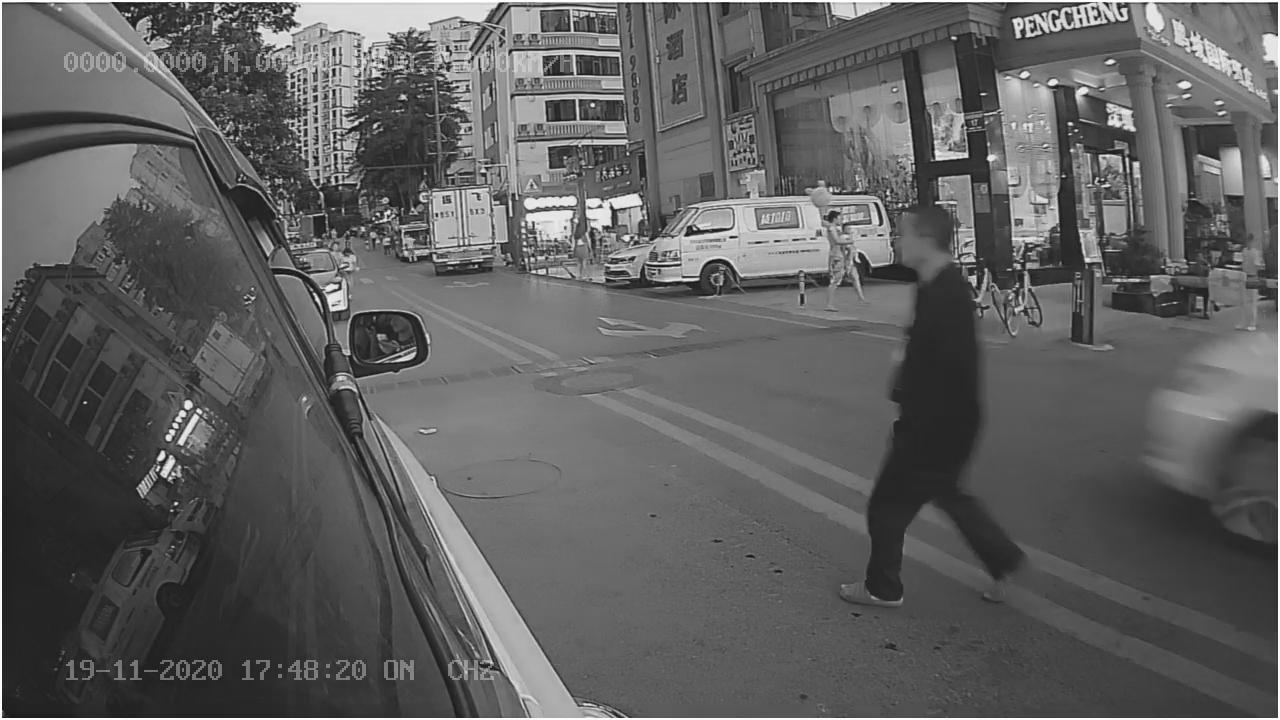person: (856, 214, 1032, 610)
